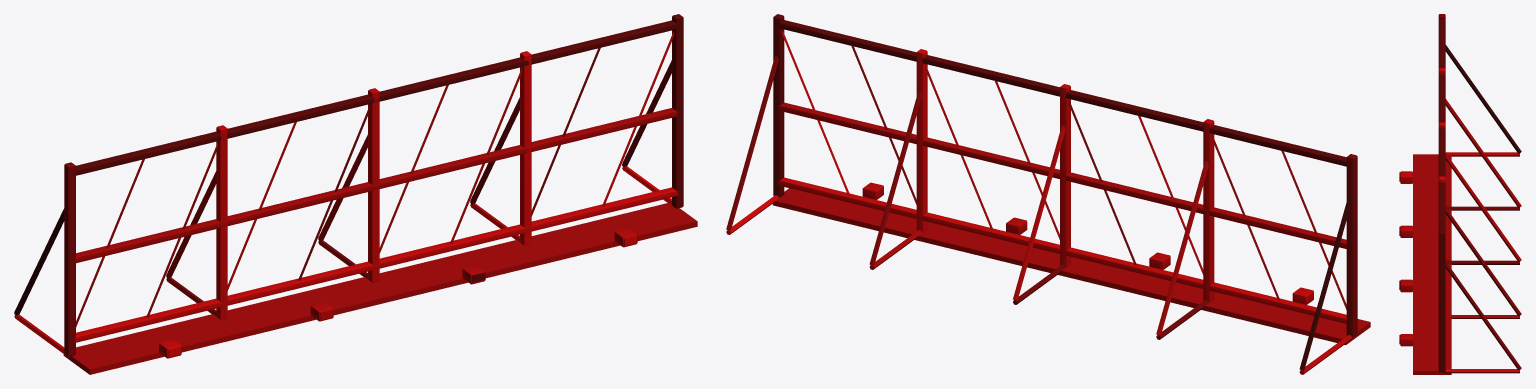
The model's file is sign_frame_roof.glb.
The picture shows the model from 3 angles, left to right: view 1: azimuth 30°, elevation 25°; view 2: azimuth 150°, elevation 25°; view 3: azimuth 270°, elevation 25°; orthographic projection. The views are drawn at different scales.
Parts seen in each view (by area): view 1: sign_frame_roof; view 2: sign_frame_roof; view 3: sign_frame_roof.
Boxes of the visible parts, x1=… form: sign_frame_roof: x1=14, y1=14, x2=697, y2=374; sign_frame_roof: x1=726, y1=14, x2=1370, y2=374; sign_frame_roof: x1=1399, y1=14, x2=1521, y2=374.
Bounding box in the file's own units: 12.16 × 3.7 × 2.86.
